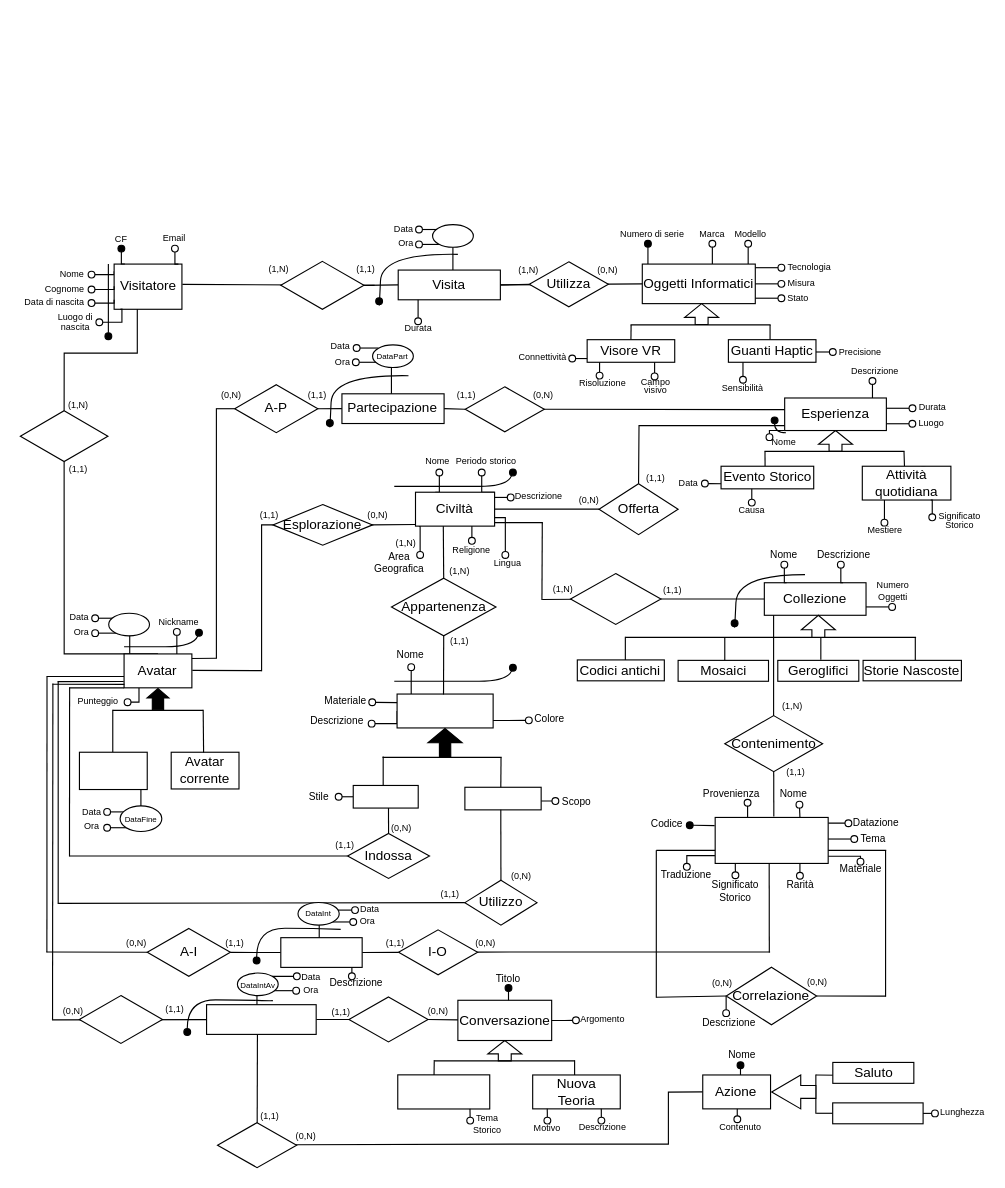
The diagram is 1005 pixels wide and 1188 high, and some of its shapes have lost their labels. Here are the shapes that lost their labels. From the top down, the box of each, then its label:
(431, 224, 473, 247): DataVisita
(280, 260, 364, 309): Sostiene
(464, 386, 544, 432): P-E
(19, 410, 108, 462): Creazione
(569, 572, 661, 624): Pertinenza
(108, 612, 149, 636): DataCrea
(396, 693, 493, 728): Abbigliamento
(78, 751, 147, 790): Avatar passato
(352, 784, 418, 808): Abito
(464, 786, 541, 810): Accessorio
(714, 816, 828, 863): Oggetto
(280, 937, 362, 967): Interazione
(78, 994, 162, 1043): A-Int
(205, 1004, 316, 1034): InterazioneAvatar
(348, 996, 428, 1042): I-C
(397, 1074, 490, 1109): Discussione Virtuale
(832, 1102, 923, 1124): Messaggio
(216, 1122, 297, 1168): I-A
